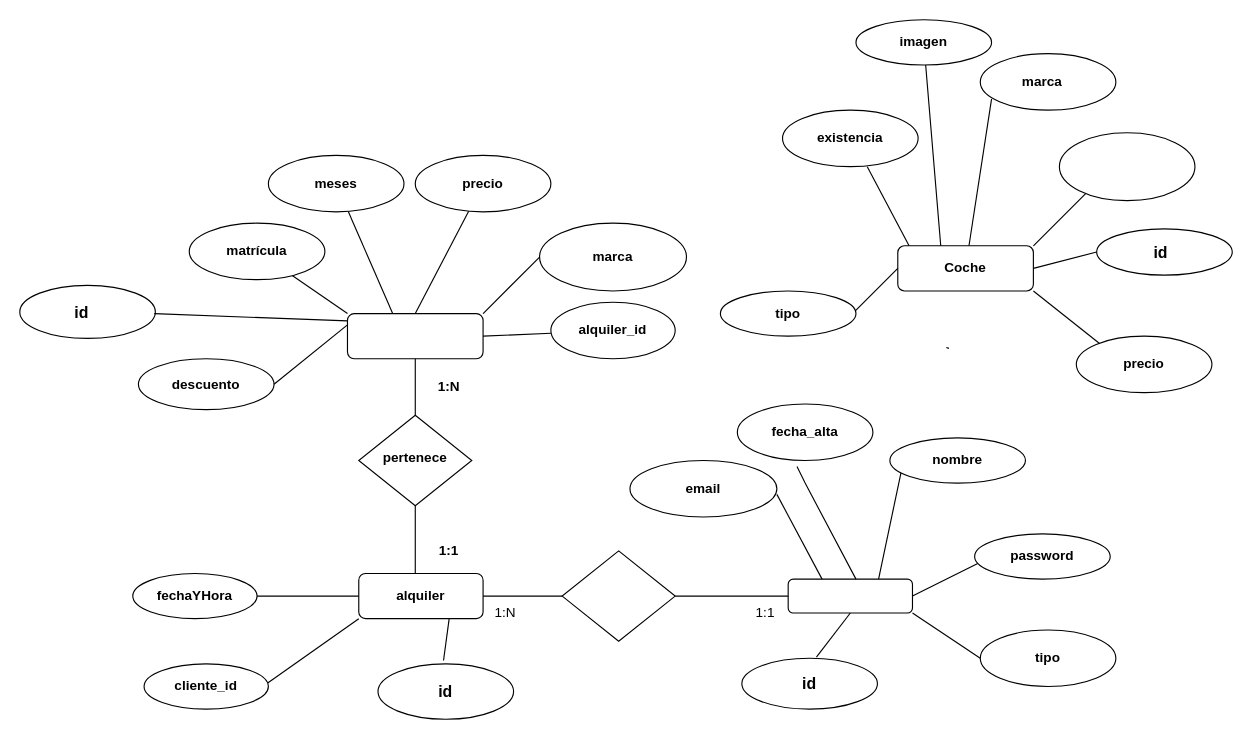
Some shapes in this 1252 by 739 pixel diagram are drawn without their labels. The box of each missing label's shape, as (x1, y1, x2, y2) in pixels:
coche_alquilado: (346, 312, 483, 359)
matricula: (1058, 132, 1195, 201)
tiene: (561, 550, 675, 641)
usuario: (787, 578, 912, 613)
